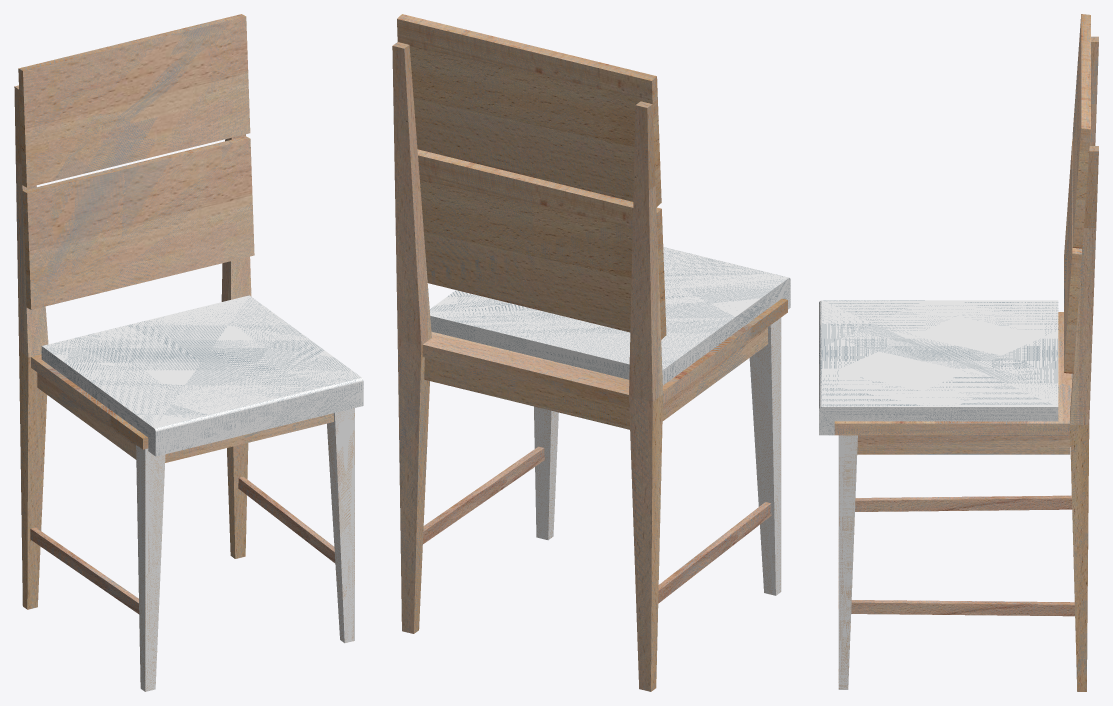
3 renders of one model, left to right at view 1: azimuth 30°, elevation 25°; view 2: azimuth 150°, elevation 25°; view 3: azimuth 270°, elevation 25°, orthographic. The views are drawn at different scales.
Parts seen in each view (by area): view 1: Rückenlehne (×2), group_0, Bein_hinten (×2), Bein (×2), Querverstrebung_unten (×2), Querstrebe (×2), group_2; view 2: Rückenlehne (×2), Bein_hinten (×2), group_0, Bein (×2), group_2, Querstrebe (×2), Querverstrebung_unten (×2); view 3: group_0, Bein_hinten (×2), Querverstrebung_unten (×2), Rückenlehne (×2), group_2, Querstrebe, Bein.
Boxes of the visible parts, <box> form: Rückenlehne (×2): <box>18,14,254,309</box>; group_0: <box>41,295,363,456</box>; Bein_hinten (×2): <box>14,85,251,609</box>; Bein (×2): <box>136,408,354,691</box>; Querverstrebung_unten (×2): <box>30,476,335,614</box>; Querstrebe (×2): <box>37,372,333,462</box>; group_2: <box>31,354,148,449</box>; Rückenlehne (×2): <box>397,14,666,339</box>; Bein_hinten (×2): <box>392,42,663,691</box>; group_0: <box>429,247,790,385</box>; Bein (×2): <box>534,317,781,595</box>; group_2: <box>422,298,787,407</box>; Querstrebe (×2): <box>424,327,768,429</box>; Querverstrebung_unten (×2): <box>423,446,771,603</box>; group_0: <box>819,300,1058,435</box>; Bein_hinten (×2): <box>1070,36,1098,691</box>; Querverstrebung_unten (×2): <box>851,495,1074,616</box>; Rückenlehne (×2): <box>1064,14,1090,373</box>; group_2: <box>834,312,1072,435</box>; Querstrebe: <box>857,435,1070,454</box>; Bein: <box>838,435,857,689</box>.
Size of the model in its own units: 16.93 by 17.51 by 38.97.
3 materials, 1 textured.
